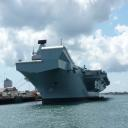Portanaves: (13, 35, 112, 107)
